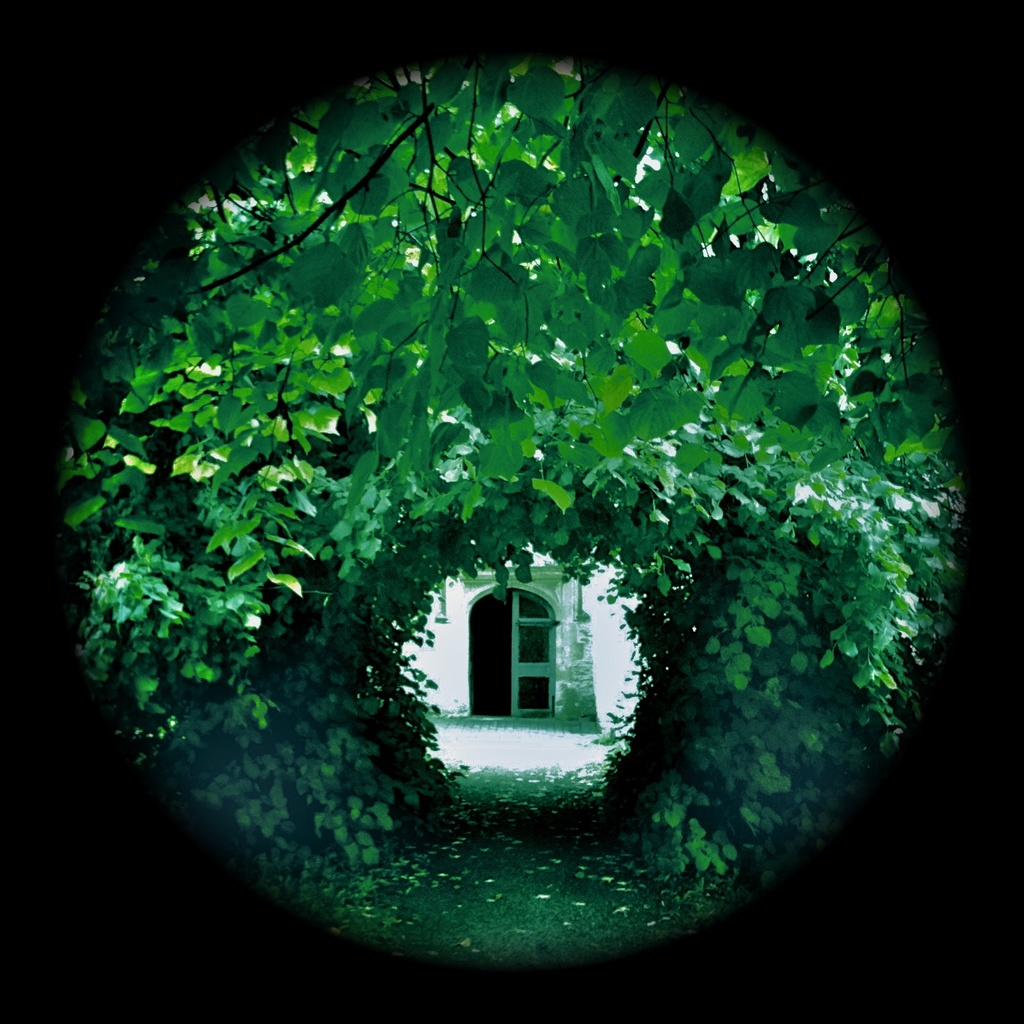Tree: (56, 44, 967, 967)
